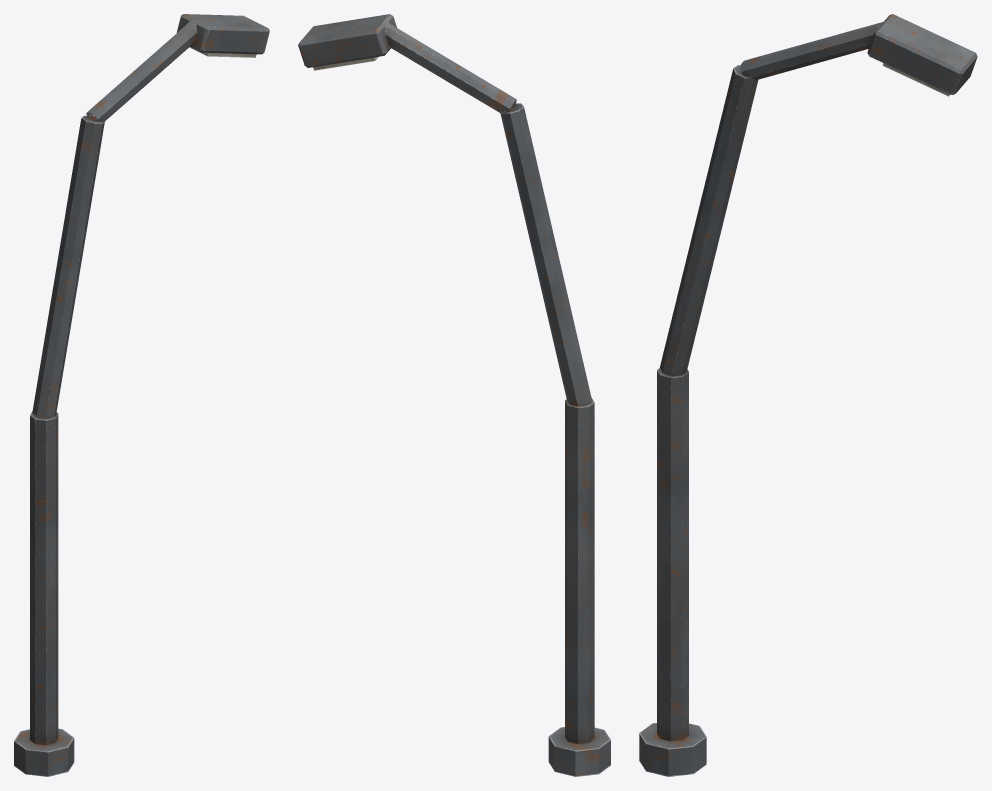
File: Farola_Doblada.glb
3 views of the same model, side by side, from view 1: azimuth 30°, elevation 25°; view 2: azimuth 150°, elevation 25°; view 3: azimuth 330°, elevation 25° (orthographic). The views are drawn at different scales.
Visible parts, largest first — view 1: Farola_Doblada; view 2: Farola_Doblada; view 3: Farola_Doblada.
Part boxes in pixels (x1=…): Farola_Doblada: x1=14, y1=14, x2=269, y2=776; Farola_Doblada: x1=298, y1=14, x2=610, y2=776; Farola_Doblada: x1=639, y1=14, x2=977, y2=776.
Size of the model in its own units: 5.58 by 13.77 by 1.84.
1 material, 1 textured.
